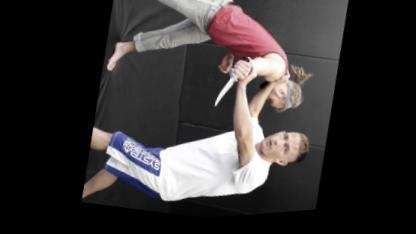knife: (206, 51, 254, 119)
